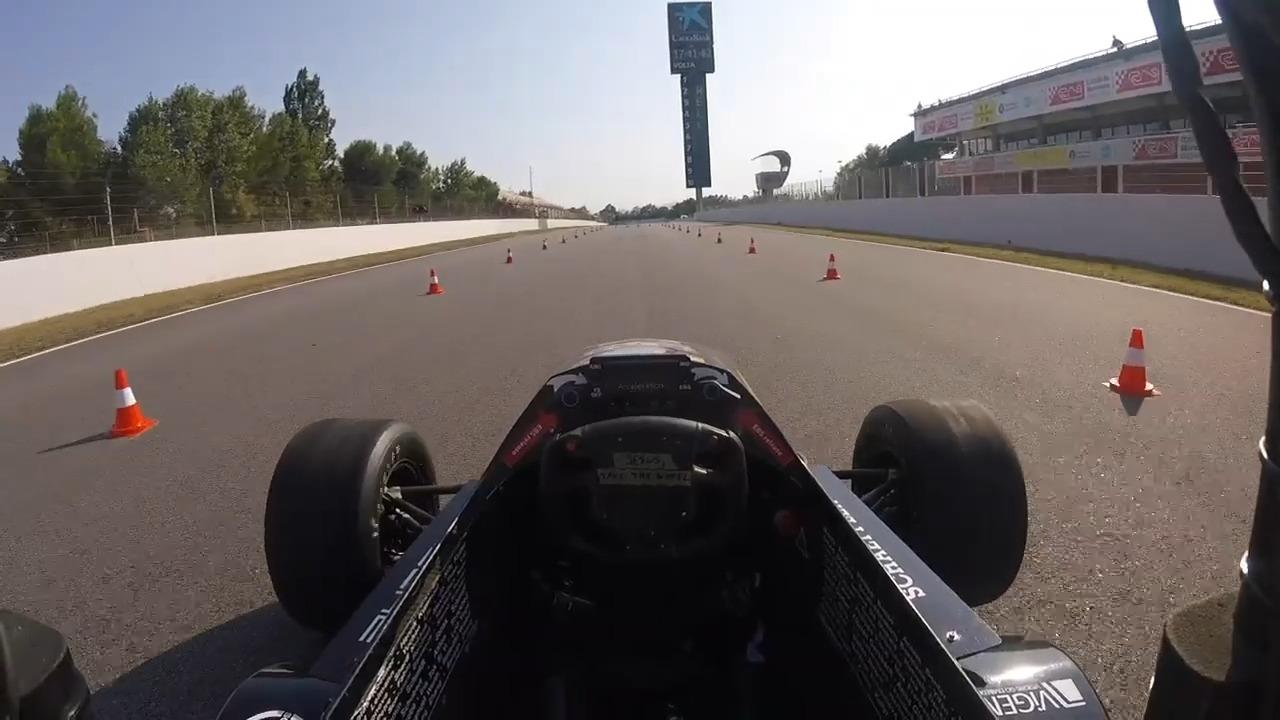orange_cone: (100, 359, 161, 445), (1104, 316, 1161, 400), (818, 242, 846, 288), (420, 262, 445, 299), (744, 230, 762, 263), (498, 239, 520, 265)
